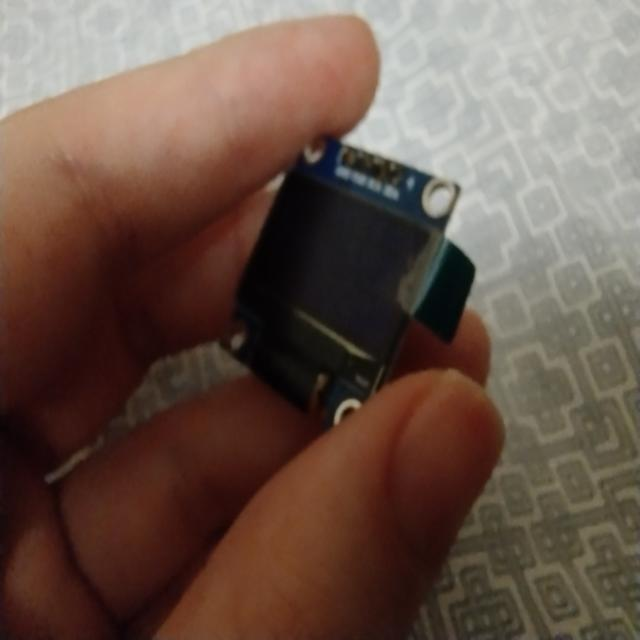oled: (216, 114, 464, 454)
